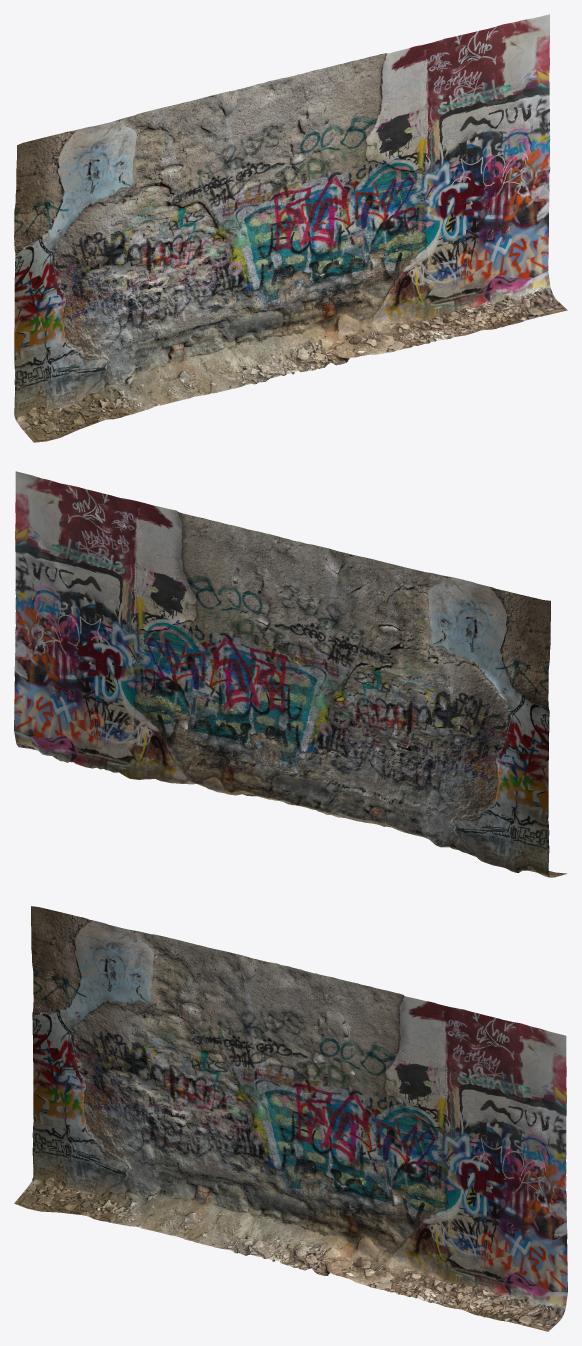
File: Graffiti wall.fbx
3 views of the same model, one above another, from view 1: azimuth 30°, elevation 25°; view 2: azimuth 150°, elevation 25°; view 3: azimuth 330°, elevation 25° (orthographic).
Parts seen in each view (by area): view 1: Grafitti Wall (Photoscanned); view 2: Grafitti Wall (Photoscanned); view 3: Grafitti Wall (Photoscanned).
Part boxes in pixels (x1,y1,x2,y2): Grafitti Wall (Photoscanned): [14, 14, 567, 442]; Grafitti Wall (Photoscanned): [14, 471, 567, 877]; Grafitti Wall (Photoscanned): [14, 906, 567, 1331].
Size of the model in its own units: 556 by 285 by 45.1.
